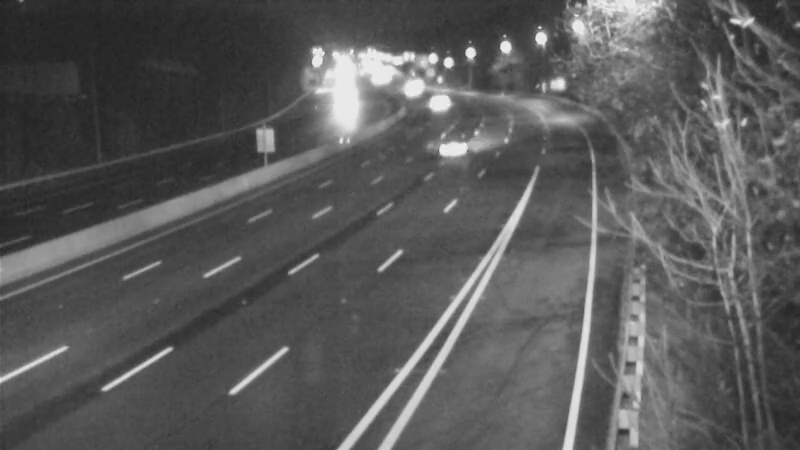vehicle: (414, 76, 464, 126), (424, 118, 474, 168)
